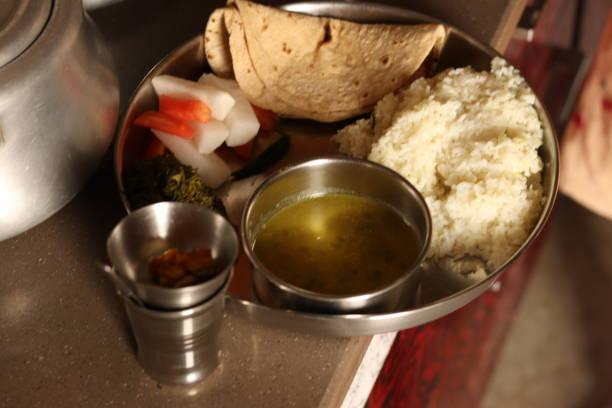daal: (262, 200, 417, 299)
rice: (409, 83, 533, 258)
roti phulka: (189, 0, 443, 125)
salad: (141, 76, 289, 185)
